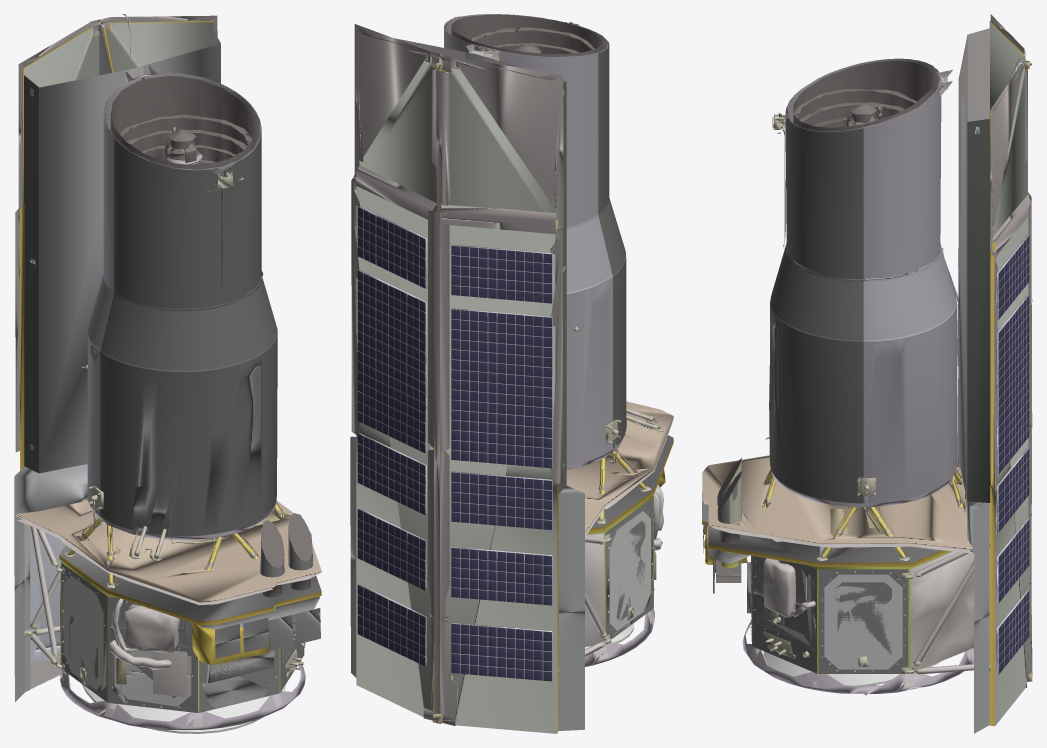
File: space-spitzer.glb
3 views of the same model, side by side, from view 1: azimuth 30°, elevation 25°; view 2: azimuth 150°, elevation 25°; view 3: azimuth 270°, elevation 25° (orthographic). The views are drawn at different scales.
Parts seen in each view (by area): view 1: Fake; view 2: Fake; view 3: Fake.
Part boxes in pixels (left/top/right/bottom): Fake: left=14, top=14, right=321, bottom=733; Fake: left=350, top=14, right=673, bottom=733; Fake: left=702, top=14, right=1032, bottom=733.
Bounding box in the file's own units: 1.62 × 4.48 × 2.1.
1 material, 1 textured.
